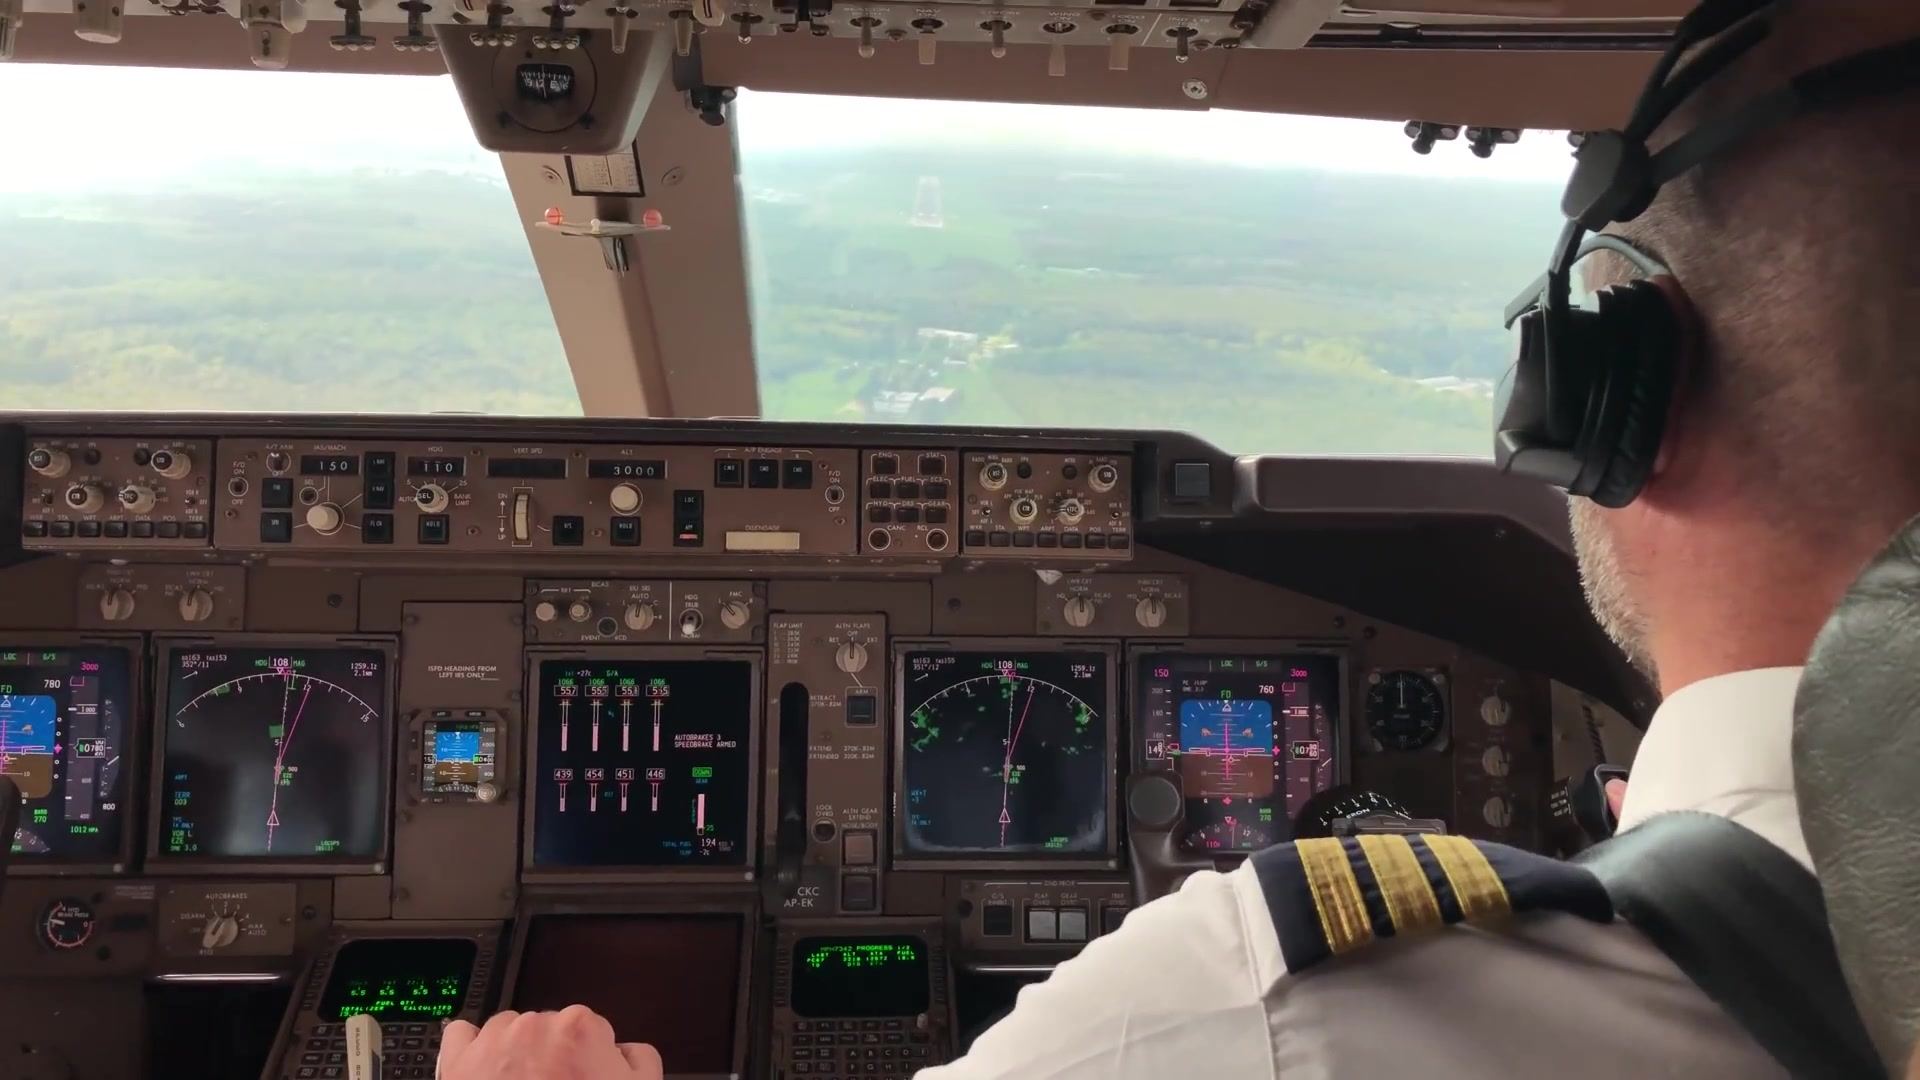runway: (909, 175, 945, 229)
